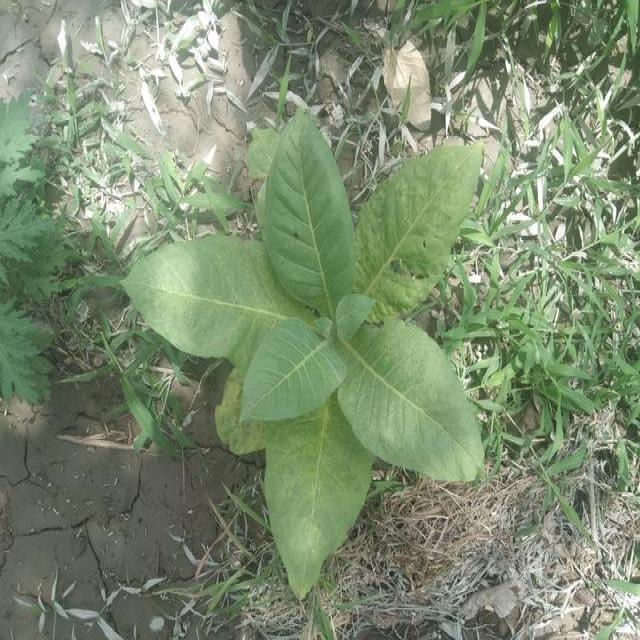crop: (116, 95, 500, 612)
